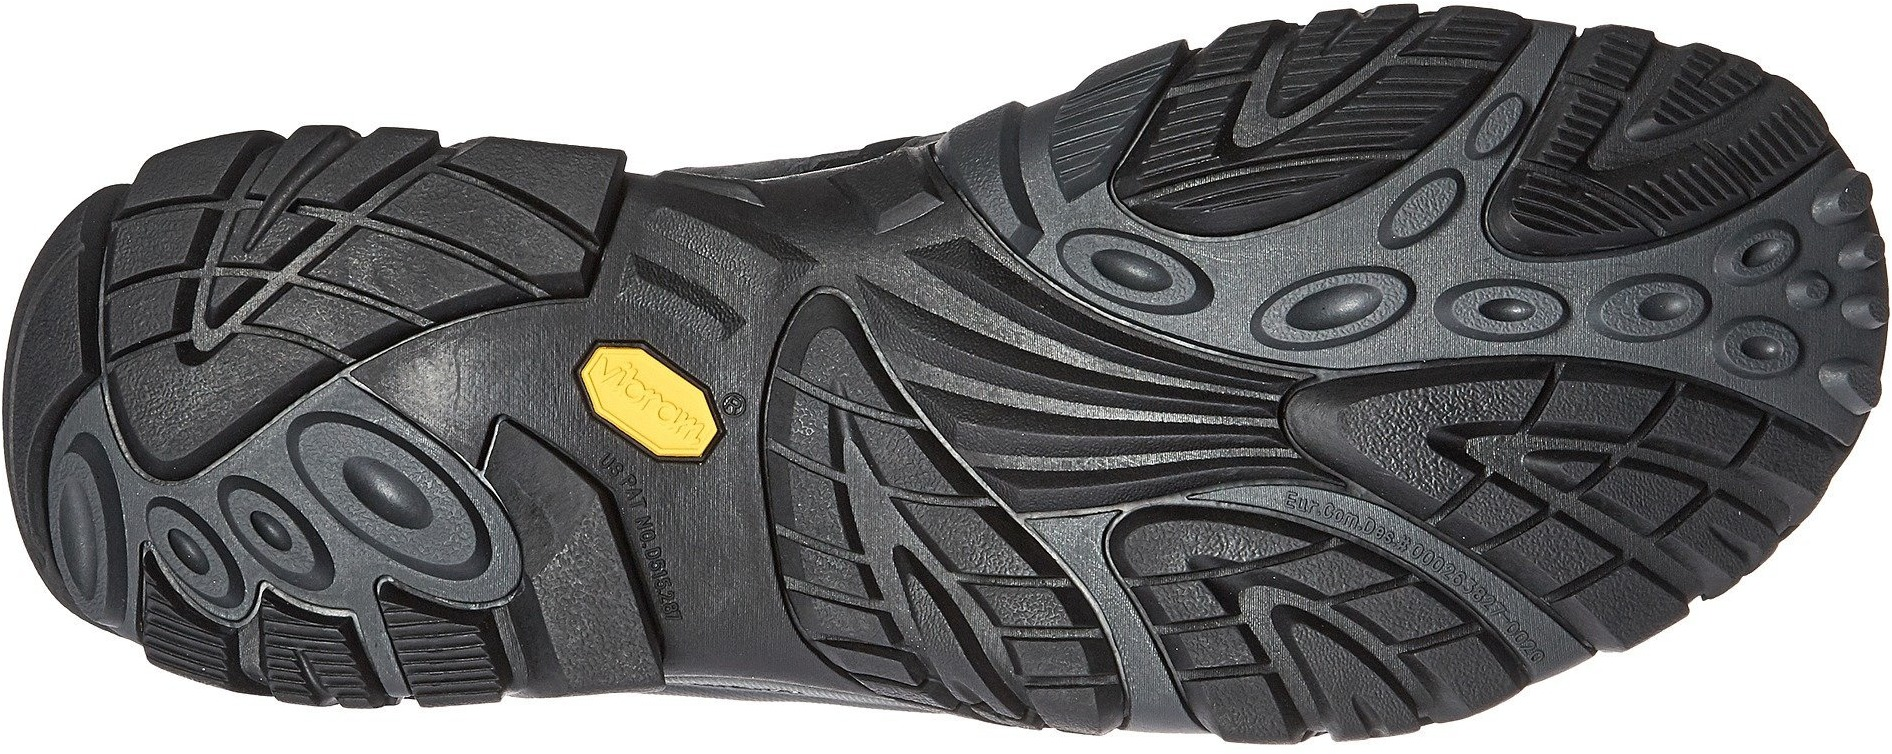chevron: (717, 308, 1135, 729), (117, 160, 457, 478), (1116, 43, 1490, 264)
circle: (206, 372, 503, 633), (1592, 212, 1808, 415)
exclude: (620, 673, 957, 740)
line: (717, 308, 1135, 729)
quad: (717, 308, 1135, 729), (117, 160, 457, 478)
triangle: (717, 308, 1135, 729), (117, 160, 457, 478)
